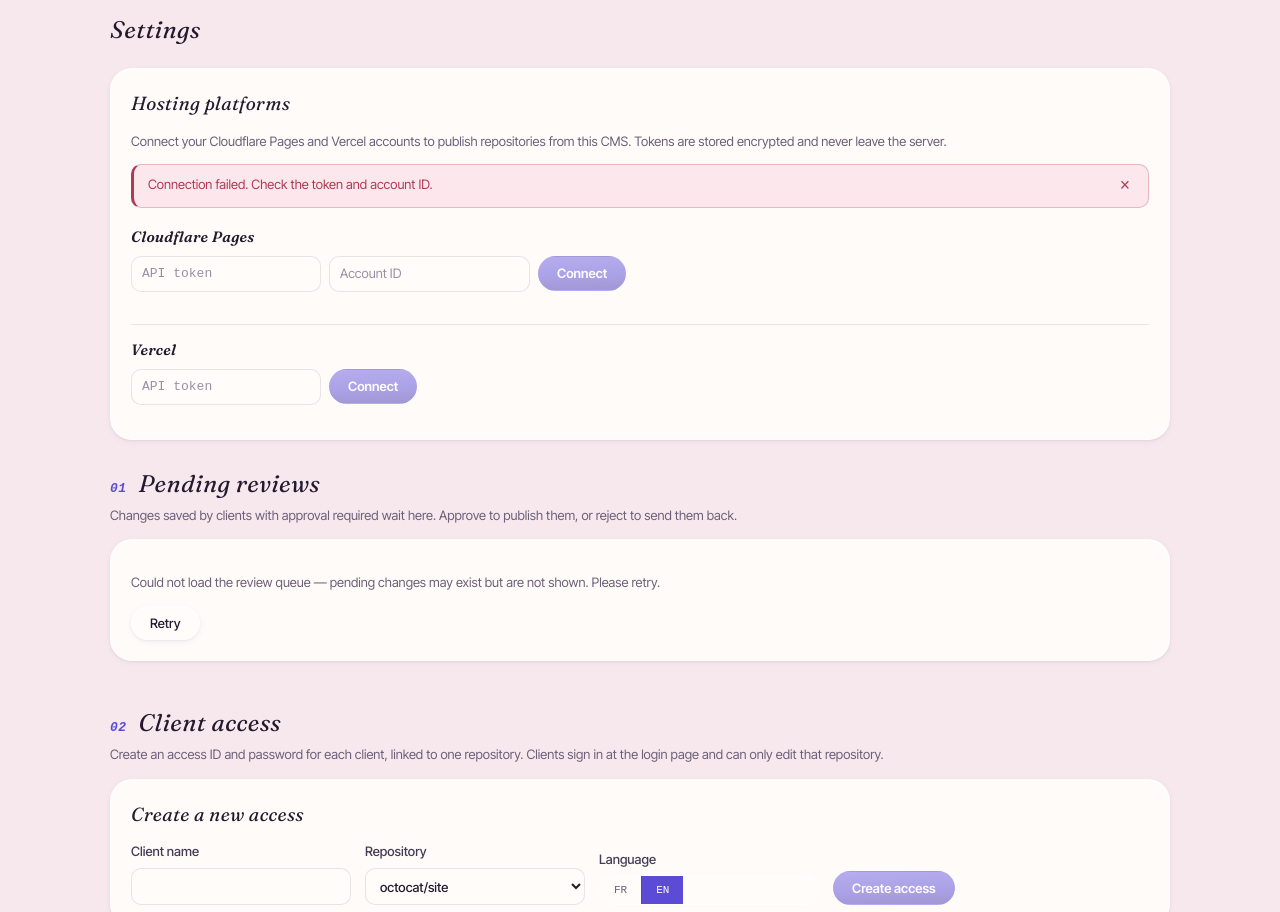
Scenario: SettingsPage review queue failure (audit 2026-11-15) › recovers on retry: the pending change appears
Click the button "Retry" at (165, 623), box [131,606,200,640]
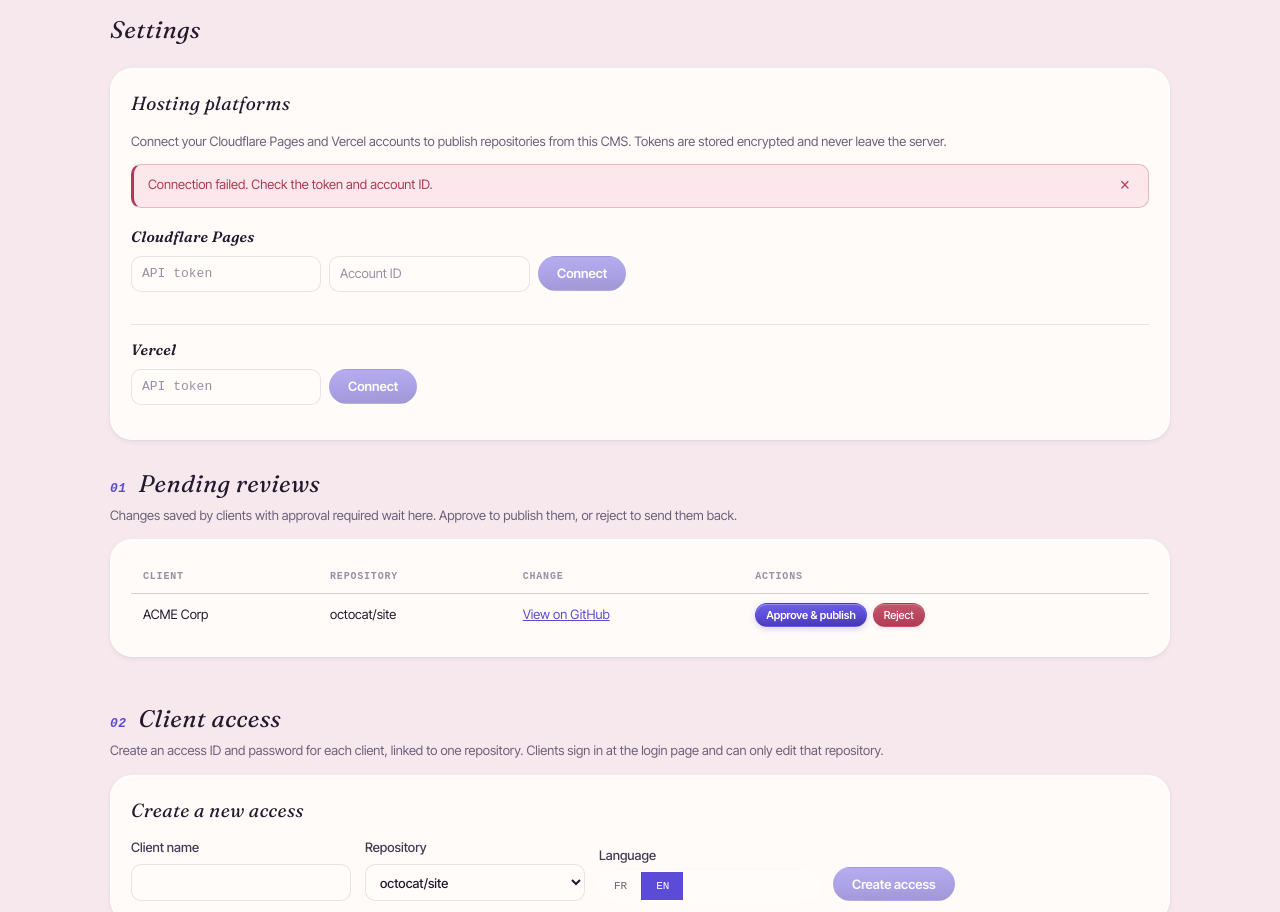
Expected: the link "View on GitHub" is shown, [523,606,610,622]
Expected: the text "Could not load the review queue" is gone
